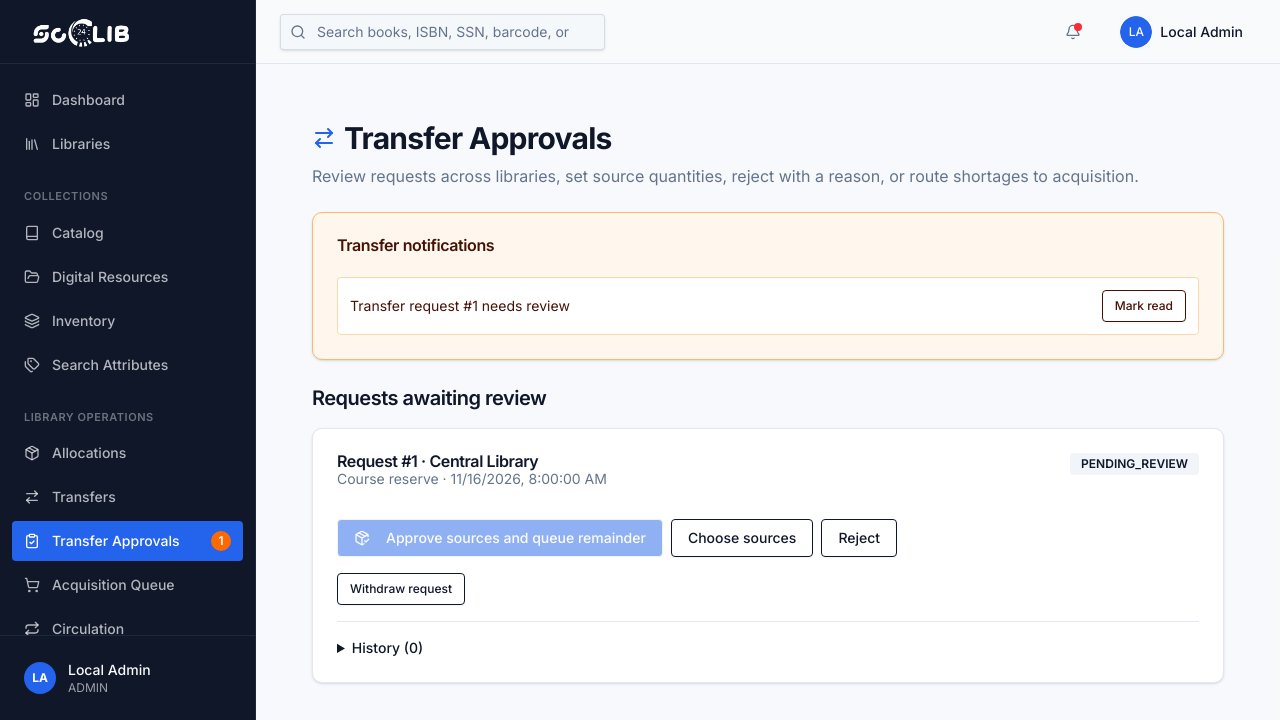
Scenario: TransfersPage withdrawal confirmation › removes a notification from the list after it is marked read
Expected: the text "Transfer request #1 needs review" is shown, [350, 296, 570, 316]
Click the button "Mark read" at (1144, 306), box [1102, 290, 1186, 322]
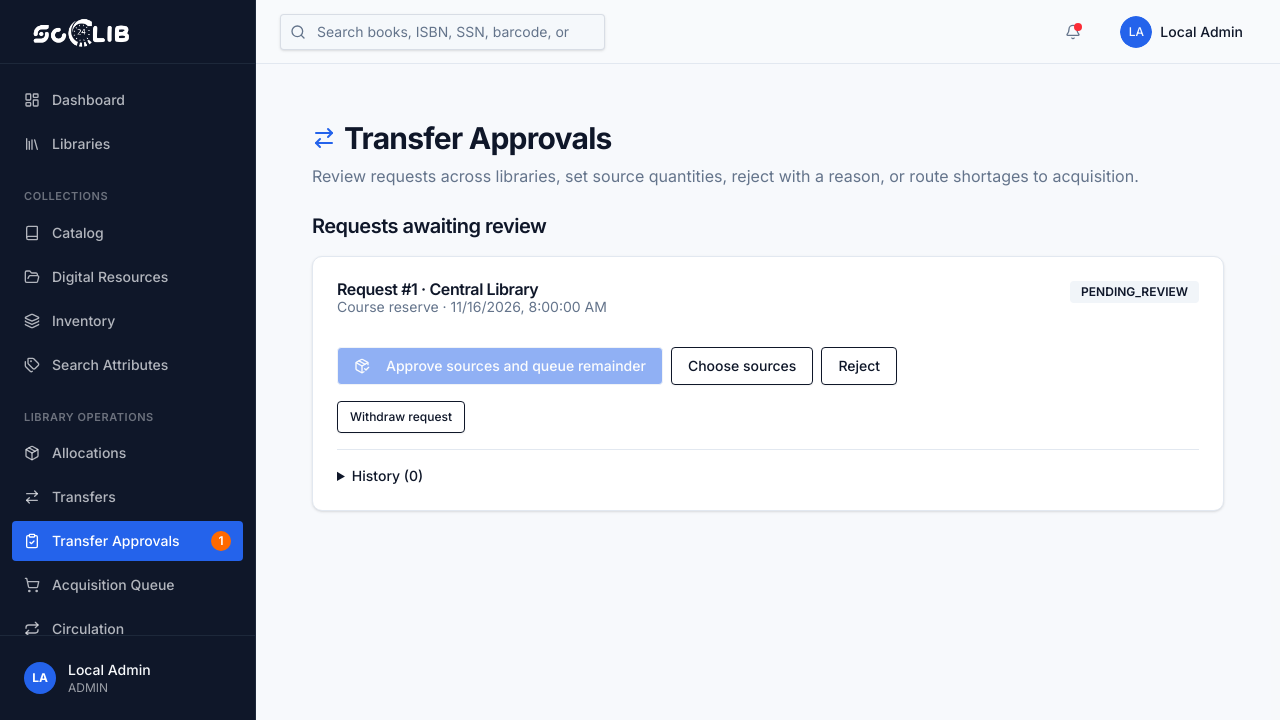
Result: the text "Transfer request #1 needs review" is gone
